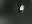person: (20, 5, 25, 16)
